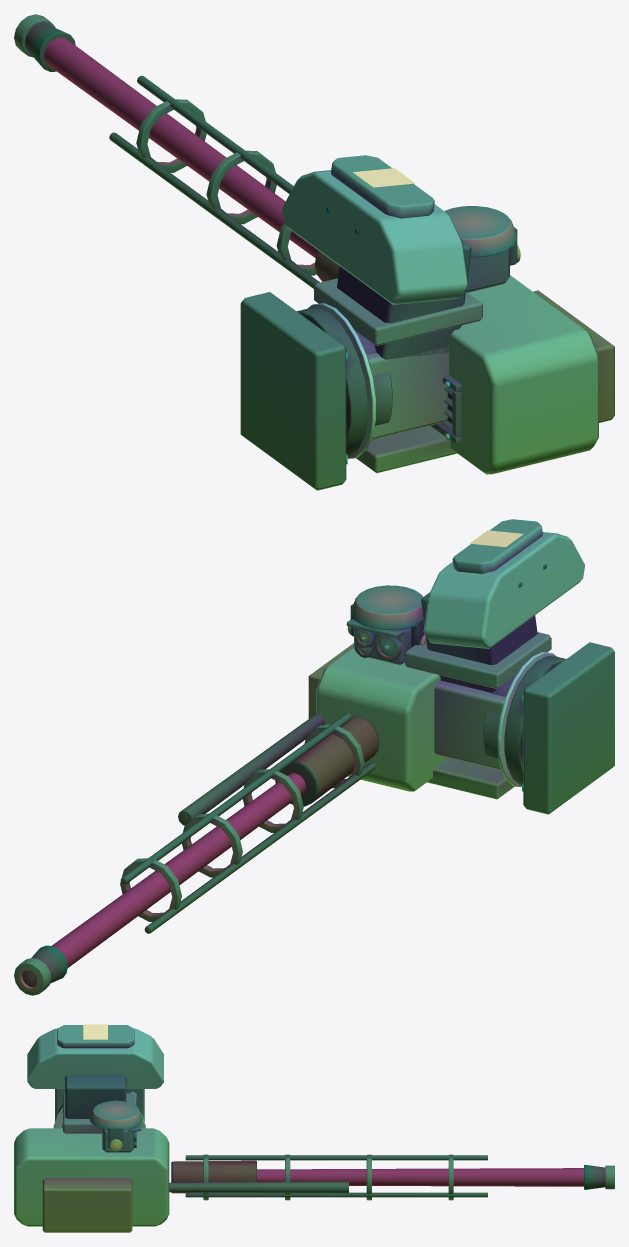
The model's file is arm_2a72.glb.
3 views of the same model, one above another, from view 1: azimuth 30°, elevation 25°; view 2: azimuth 150°, elevation 25°; view 3: azimuth 270°, elevation 25° (orthographic). The views are drawn at different scales.
Parts seen in each view (by area): view 1: Body__armor, Body__gunmetal, Body__dark, Body__armor_sub, Body__armor_oxide, Body__chrome, Body__armor_dark, Body__decal; view 2: Body__gunmetal, Body__armor, Body__dark, Body__armor_sub, Body__rubber, Body__chrome, Body__armor_oxide; view 3: Body__armor, Body__dark, Body__gunmetal, Body__armor_oxide, Body__armor_sub, Body__rubber, Body__armor_dark, Body__decal.
Boxes of the visible parts, x1,y1,x2,y2 form: Body__armor: (282, 170, 598, 474); Body__gunmetal: (14, 14, 517, 490); Body__dark: (25, 23, 517, 456); Body__armor_sub: (314, 155, 482, 473); Body__armor_oxide: (533, 290, 614, 422); Body__chrome: (308, 303, 450, 464); Body__armor_dark: (466, 248, 509, 292); Body__decal: (353, 168, 415, 187); Body__gunmetal: (14, 585, 614, 995); Body__armor: (316, 532, 585, 791); Body__dark: (22, 564, 565, 986); Body__armor_sub: (405, 519, 551, 799); Body__rubber: (275, 716, 379, 806); Body__chrome: (497, 652, 556, 791); Body__armor_oxide: (308, 643, 353, 718); Body__armor: (14, 1028, 169, 1226); Body__dark: (55, 1074, 605, 1197); Body__gunmetal: (55, 1089, 614, 1200); Body__armor_oxide: (42, 1178, 132, 1232); Body__armor_sub: (57, 1025, 136, 1133); Body__rubber: (171, 1160, 256, 1193); Body__armor_dark: (102, 1129, 133, 1152); Body__decal: (83, 1024, 107, 1039).
Bounding box in the file's own units: 0.958 × 0.8902 × 2.94.
